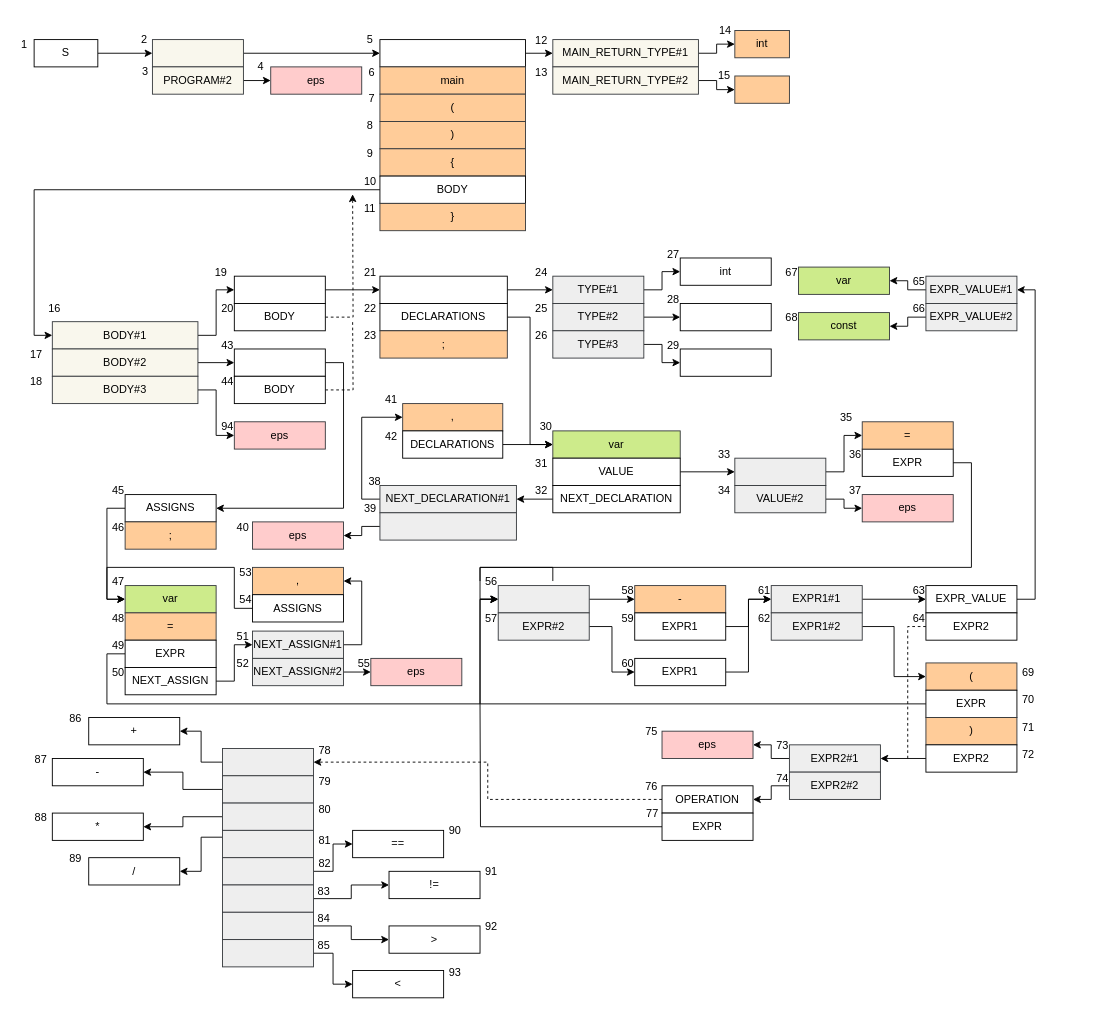
The diagram is 1105 pixels wide and 1014 high, and some of its shapes have lost their labels. The shapes that lost their labels are listed below. From the top down, each one's centre as x and y in pixels, then its label:
the point at 197,53: PROGRAM#1
the point at 452,53: MAIN_RETURN_TYPE
the point at 761,89: void
the point at 279,289: DECLARATION
the point at 443,289: TYPE
the point at 725,317: char
the point at 279,362: ASSIGN
the point at 725,362: float
the point at 780,471: VALUE#1
the point at 447,526: NEXT_DECLARATION#2
the point at 543,599: EXPR#1
the point at 267,762: OPERATION#1
the point at 267,789: OPERATION#2
the point at 267,816: OPERATION#3
the point at 267,843: OPERATION#4
the point at 267,871: OPERATION#5
the point at 267,898: OPERATION#6
the point at 267,925: OPERATION#7
the point at 267,953: OPERATION#8
